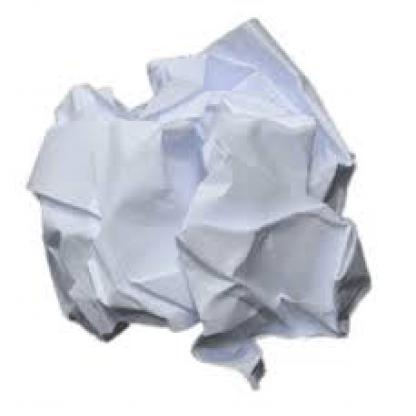paper: (23, 15, 368, 388)
